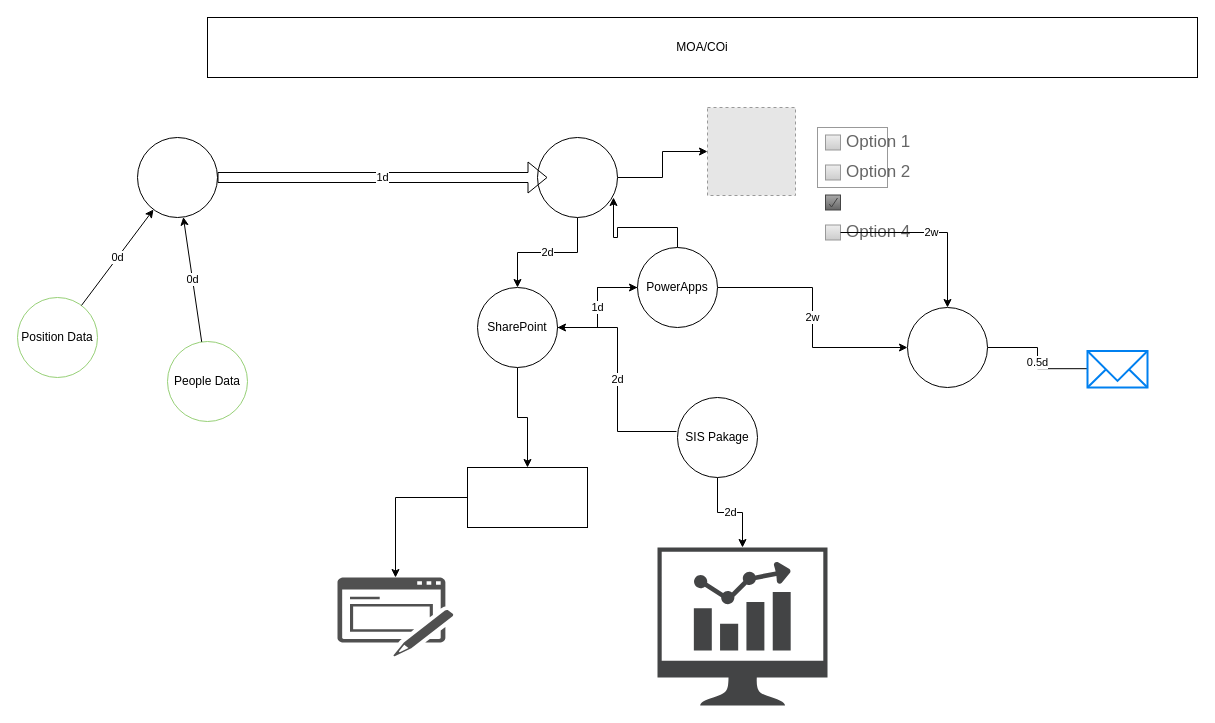
Some shapes in this 1215 by 723 pixel diagram are drawn without their labels. Grey dashed boxes stand in for pictures. Here are the shapes that lost their labels. From the top down, the centre of each, then its label:
At (177,177): "Source Data".
At (577,177): "Interface".
At (832,202): "Option 3".
At (947,347): "Workflow".
At (527,497): "Chat to Rob".
